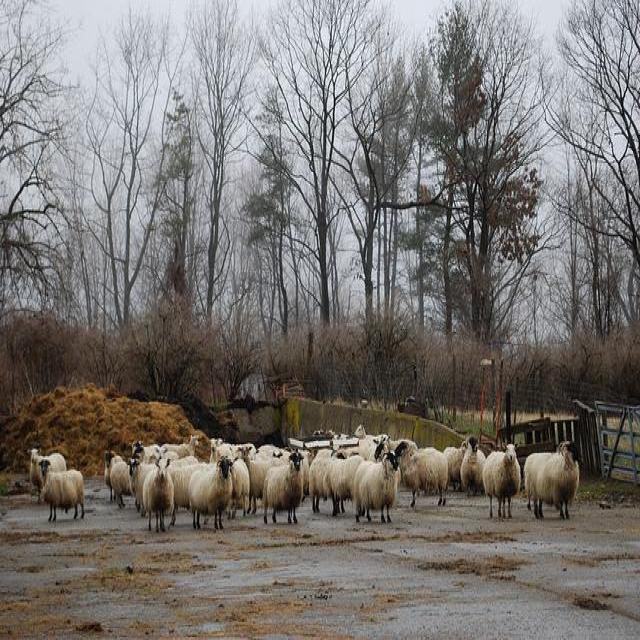Sheep: (14, 413, 476, 526), (524, 440, 579, 520), (188, 456, 233, 531), (354, 453, 399, 525), (237, 447, 285, 513), (263, 453, 305, 525), (483, 441, 521, 519), (39, 460, 84, 522), (142, 457, 176, 534)
